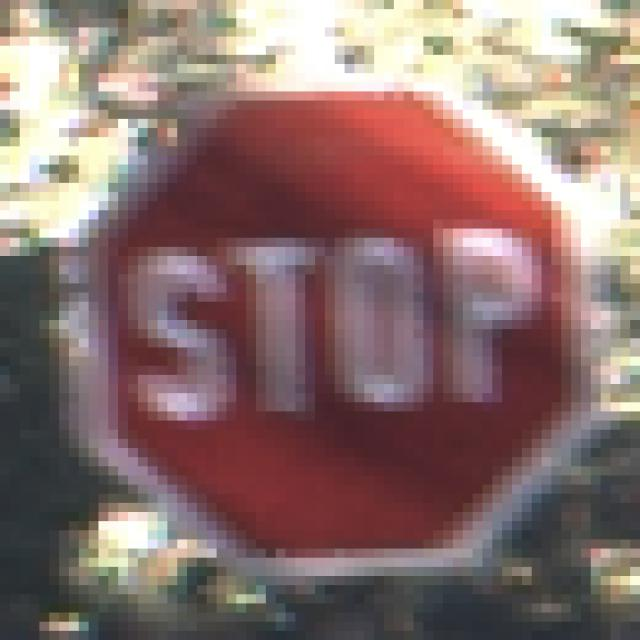STOP: (60, 65, 592, 586)
